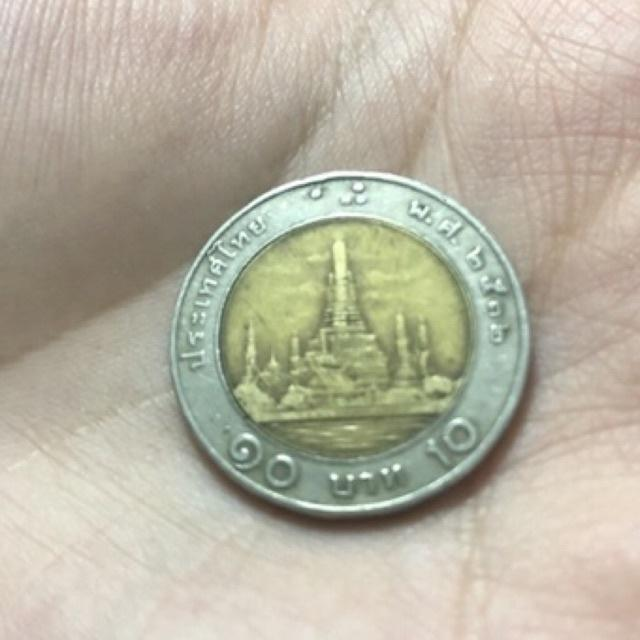10-baht: (140, 155, 562, 550)
